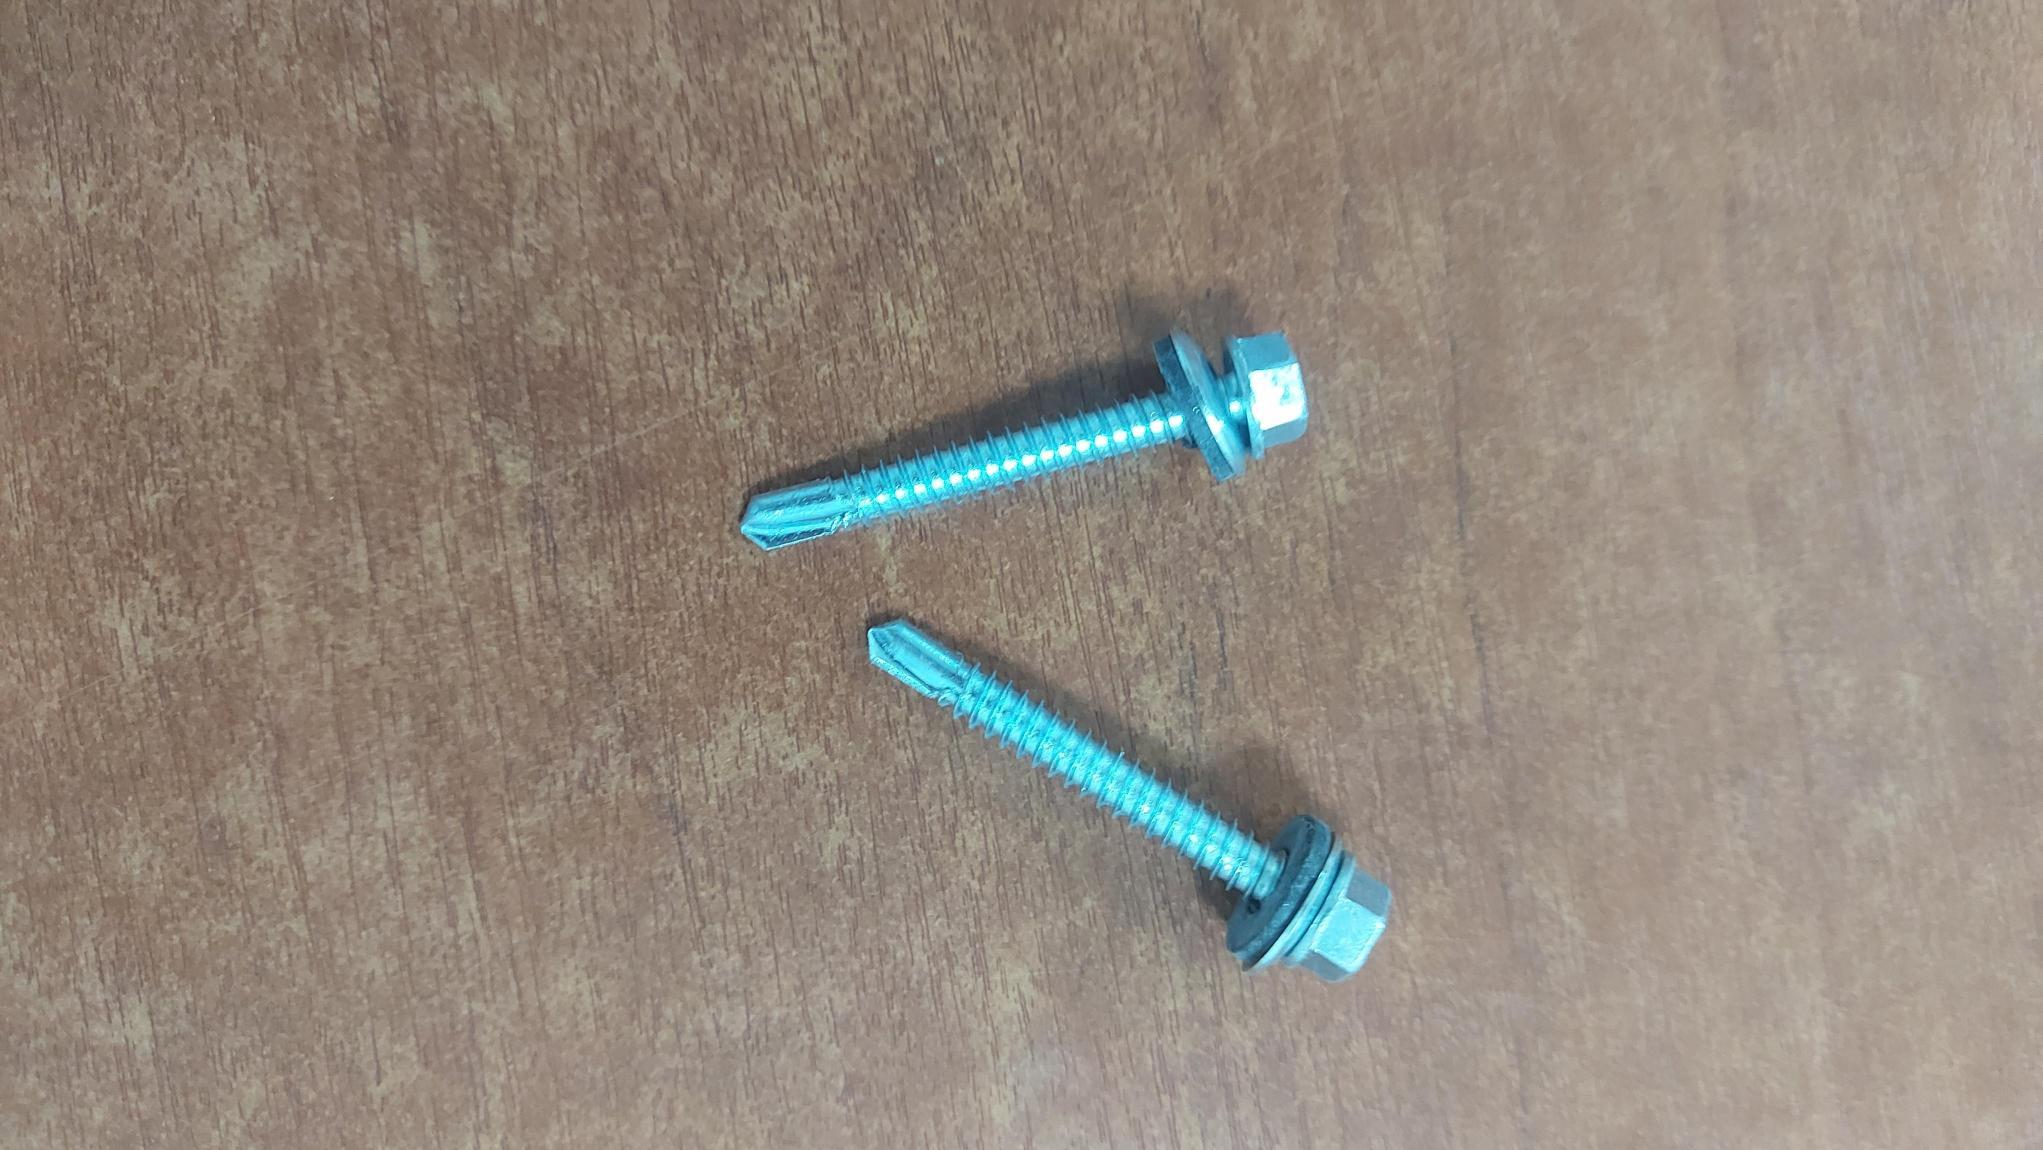Screw: (869, 620, 1391, 980), (741, 331, 1308, 550)
